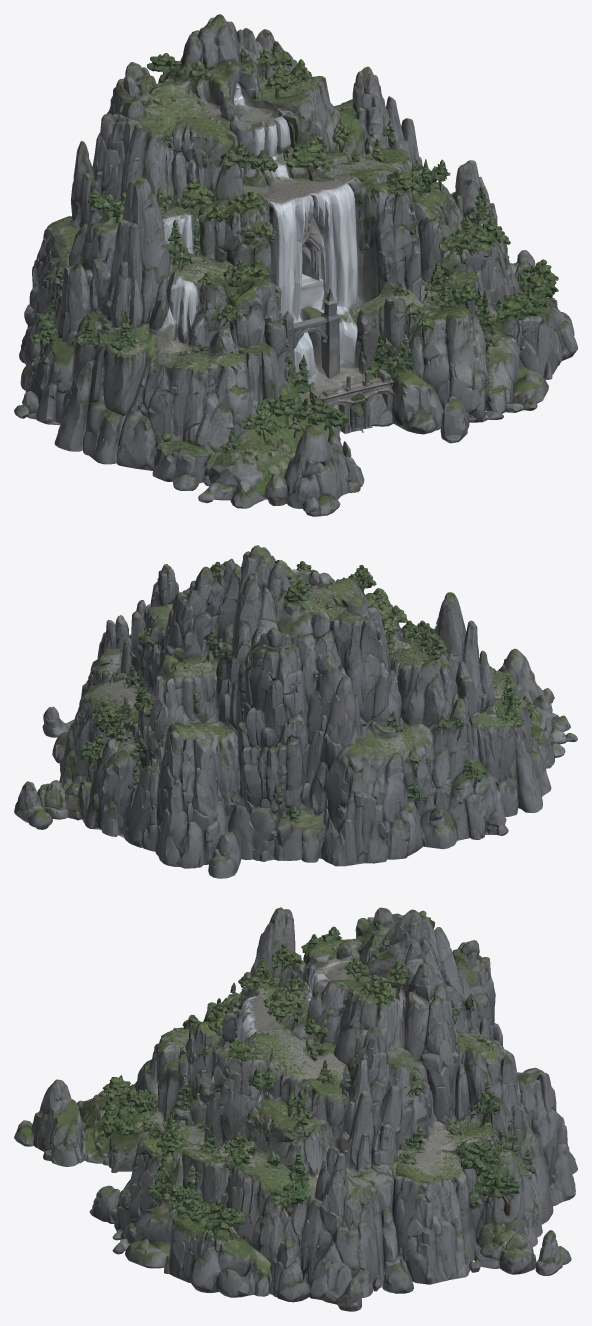
File: veilfall_b.glb
3 renders of one model, top to bottom at view 1: azimuth 30°, elevation 25°; view 2: azimuth 150°, elevation 25°; view 3: azimuth 270°, elevation 25°, orthographic. The views are drawn at different scales.
Size of the model in its own units: 1.82 by 1.02 by 1.87.
Materials: 1 (1 with a texture image).
